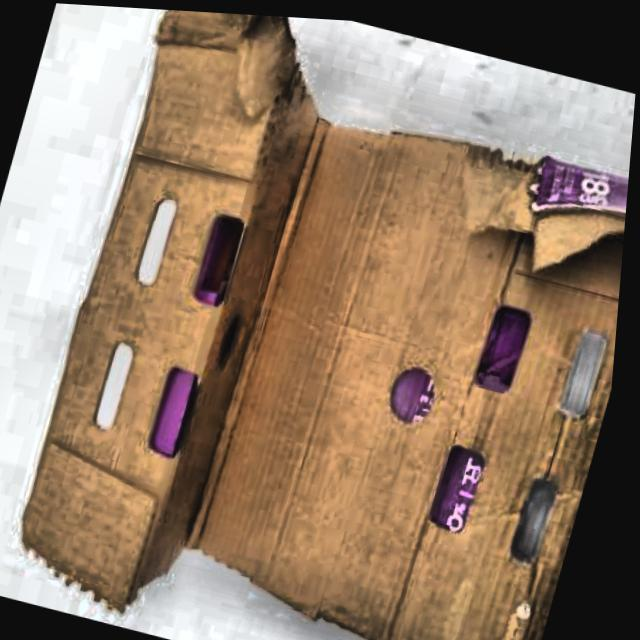Cardbox: (0, 1, 640, 640)
